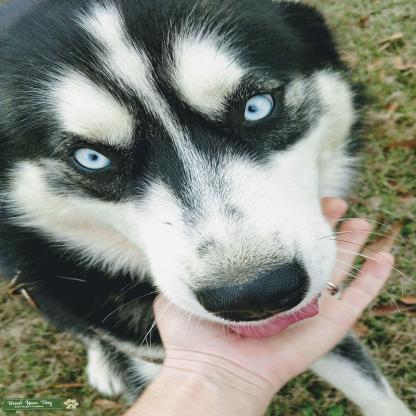dog: (1, 0, 403, 416)
